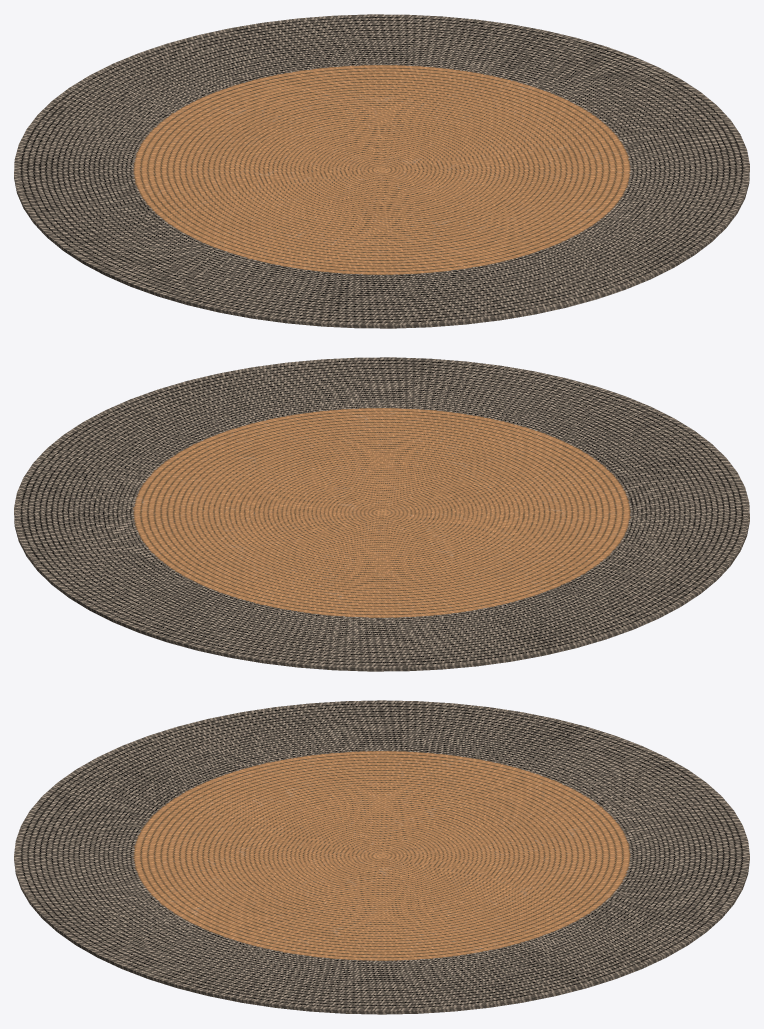
The model's file is carpet_free.glb.
3 views of the same model, one above another, from view 1: azimuth 30°, elevation 25°; view 2: azimuth 150°, elevation 25°; view 3: azimuth 270°, elevation 25° (orthographic).
Parts seen in each view (by area): view 1: HP_115_Braided_carpet; view 2: HP_115_Braided_carpet; view 3: HP_115_Braided_carpet.
Boxes of the visible parts, x1,y1,x2,y2 form: HP_115_Braided_carpet: [14, 14, 749, 328]; HP_115_Braided_carpet: [14, 357, 749, 671]; HP_115_Braided_carpet: [14, 700, 749, 1014].
Bounding box in the file's own units: 1 × 0.00471 × 1.
Materials: 1 (1 with a texture image).
